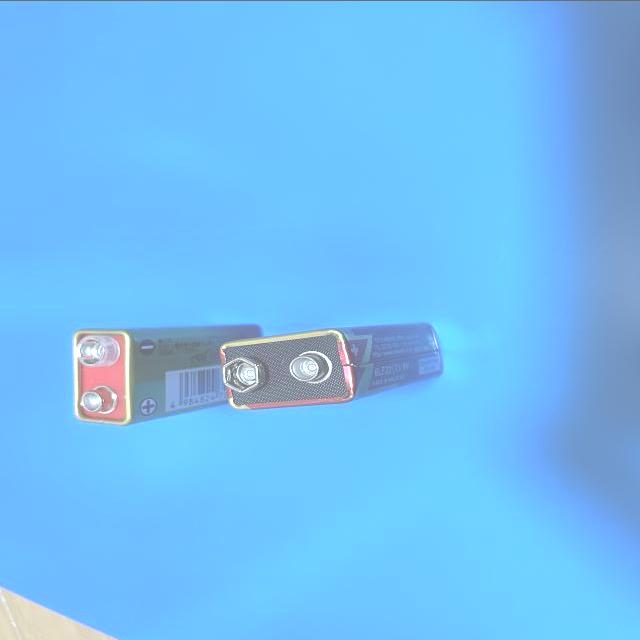9V: (218, 319, 443, 411), (73, 322, 261, 426)
